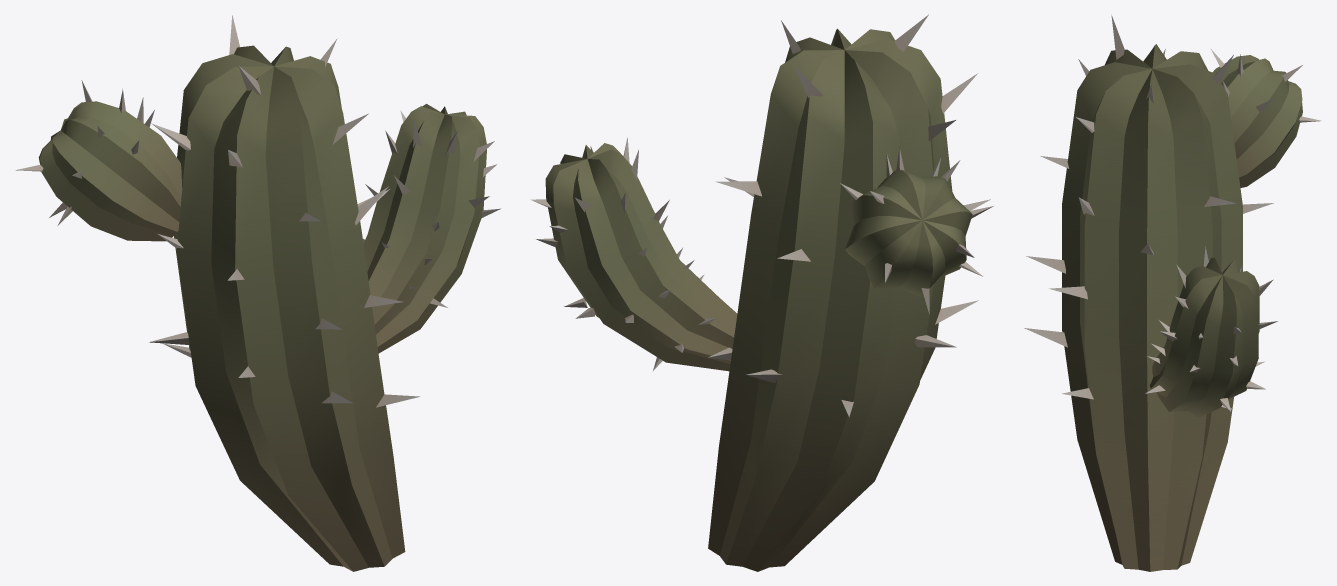
File: Cactus04.fbx
3 views of the same model, side by side, from view 1: azimuth 30°, elevation 25°; view 2: azimuth 150°, elevation 25°; view 3: azimuth 270°, elevation 25° (orthographic). The views are drawn at different scales.
Parts seen in each view (by area): view 1: Cactus04; view 2: Cactus04; view 3: Cactus04.
Boxes of the visible parts, x1,y1,x2,y2 form: Cactus04: (15,15,500,571); Cactus04: (531,14,993,571); Cactus04: (1024,14,1321,571).
Bounding box in the file's own units: 337 × 392 × 218.
